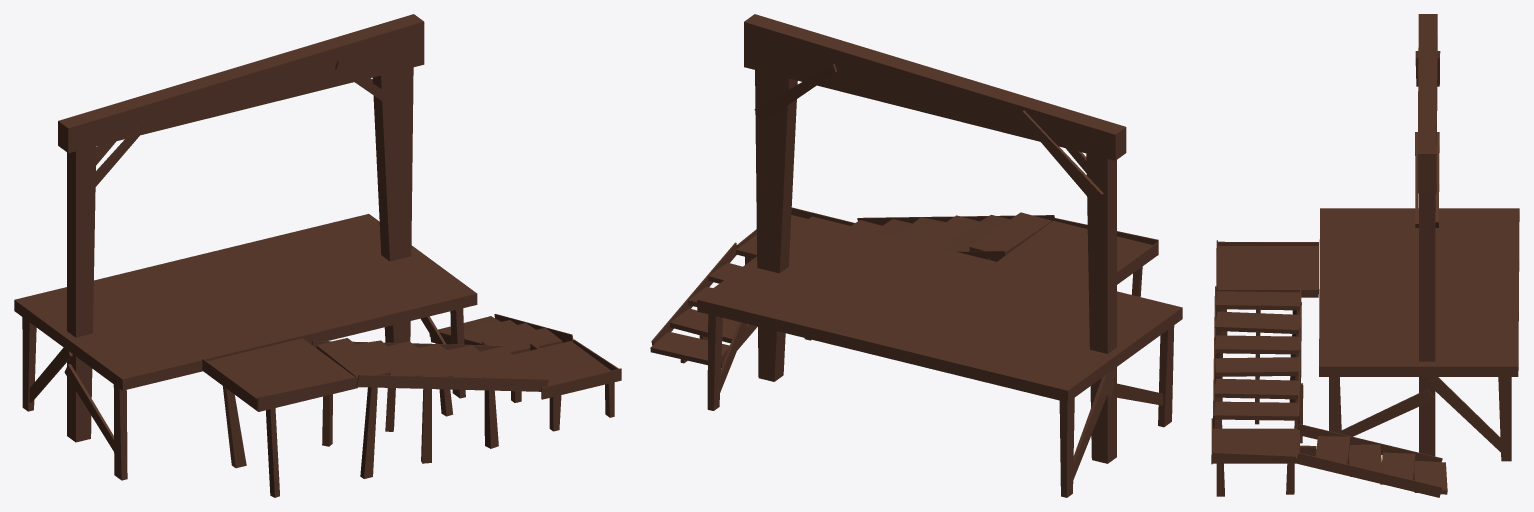
File: HangPlace.fbx
The picture shows the model from 3 angles, left to right: view 1: azimuth 30°, elevation 25°; view 2: azimuth 150°, elevation 25°; view 3: azimuth 270°, elevation 25°; orthographic projection. The views are drawn at different scales.
Visible parts, largest first — view 1: HangPlace_LOD0; view 2: HangPlace_LOD0; view 3: HangPlace_LOD0.
Part boxes in pixels (<box>): HangPlace_LOD0: <box>14,14,621,497</box>; HangPlace_LOD0: <box>650,14,1182,497</box>; HangPlace_LOD0: <box>1211,14,1519,497</box>.
Size of the model in its own units: 51314 by 37706 by 33930.
